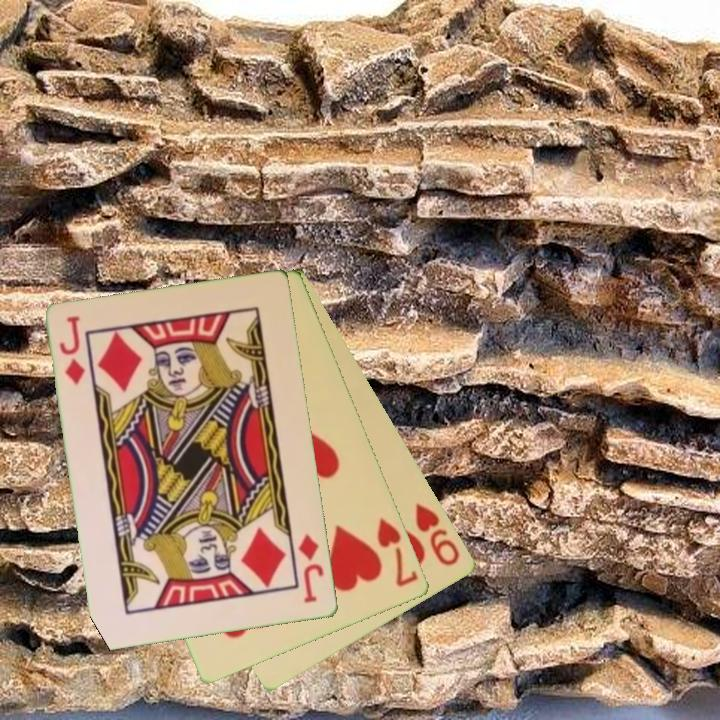7h: (374, 514, 422, 590)
9h: (412, 499, 463, 569)
Jd: (295, 530, 327, 606), (56, 312, 88, 388)
